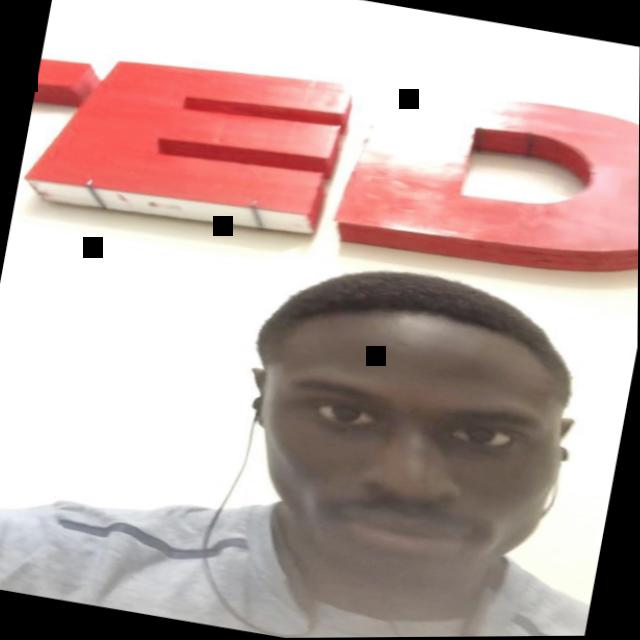NO-Mask: (220, 291, 591, 617)
